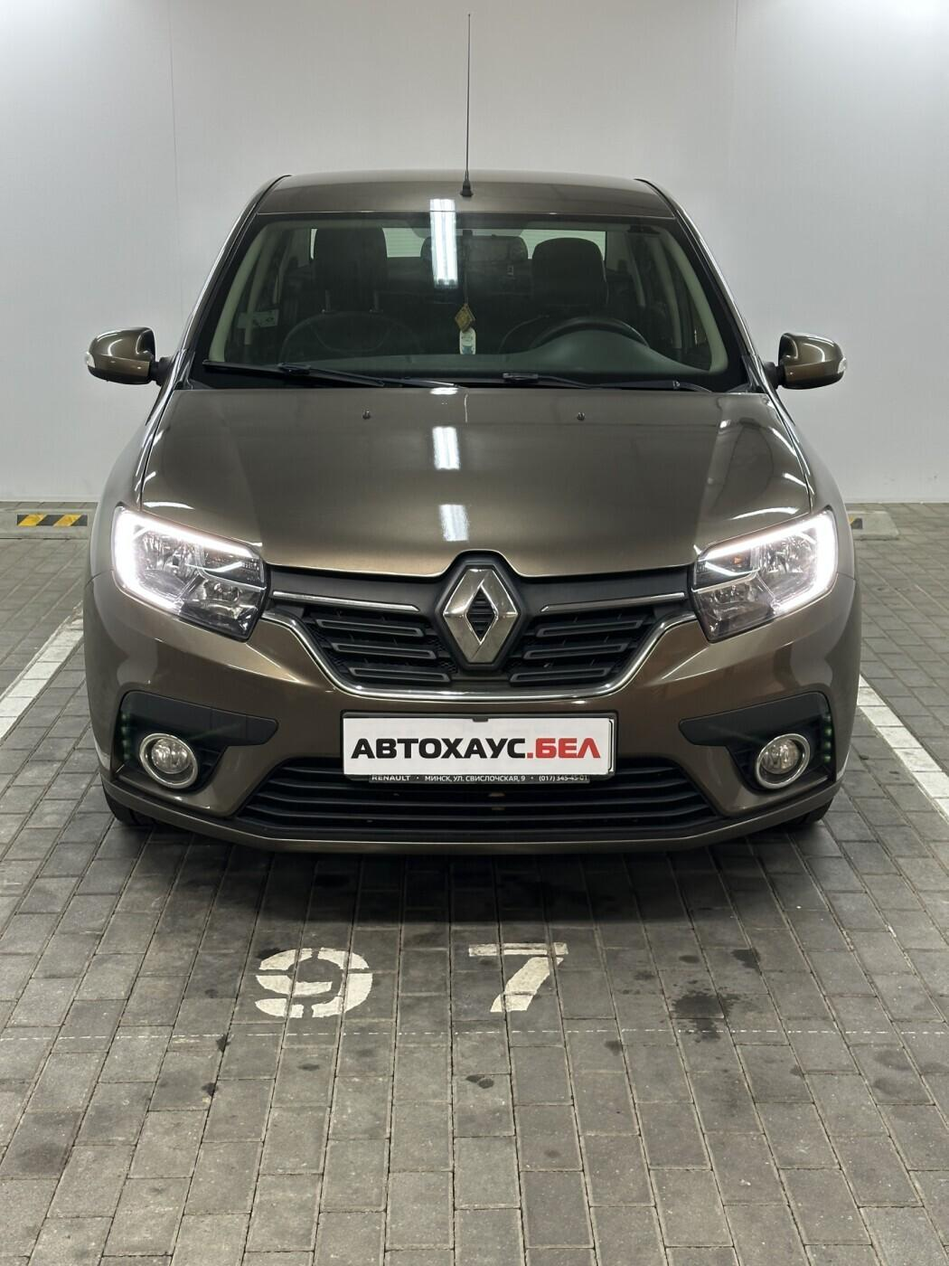Logan_2018: (78, 161, 877, 888)
